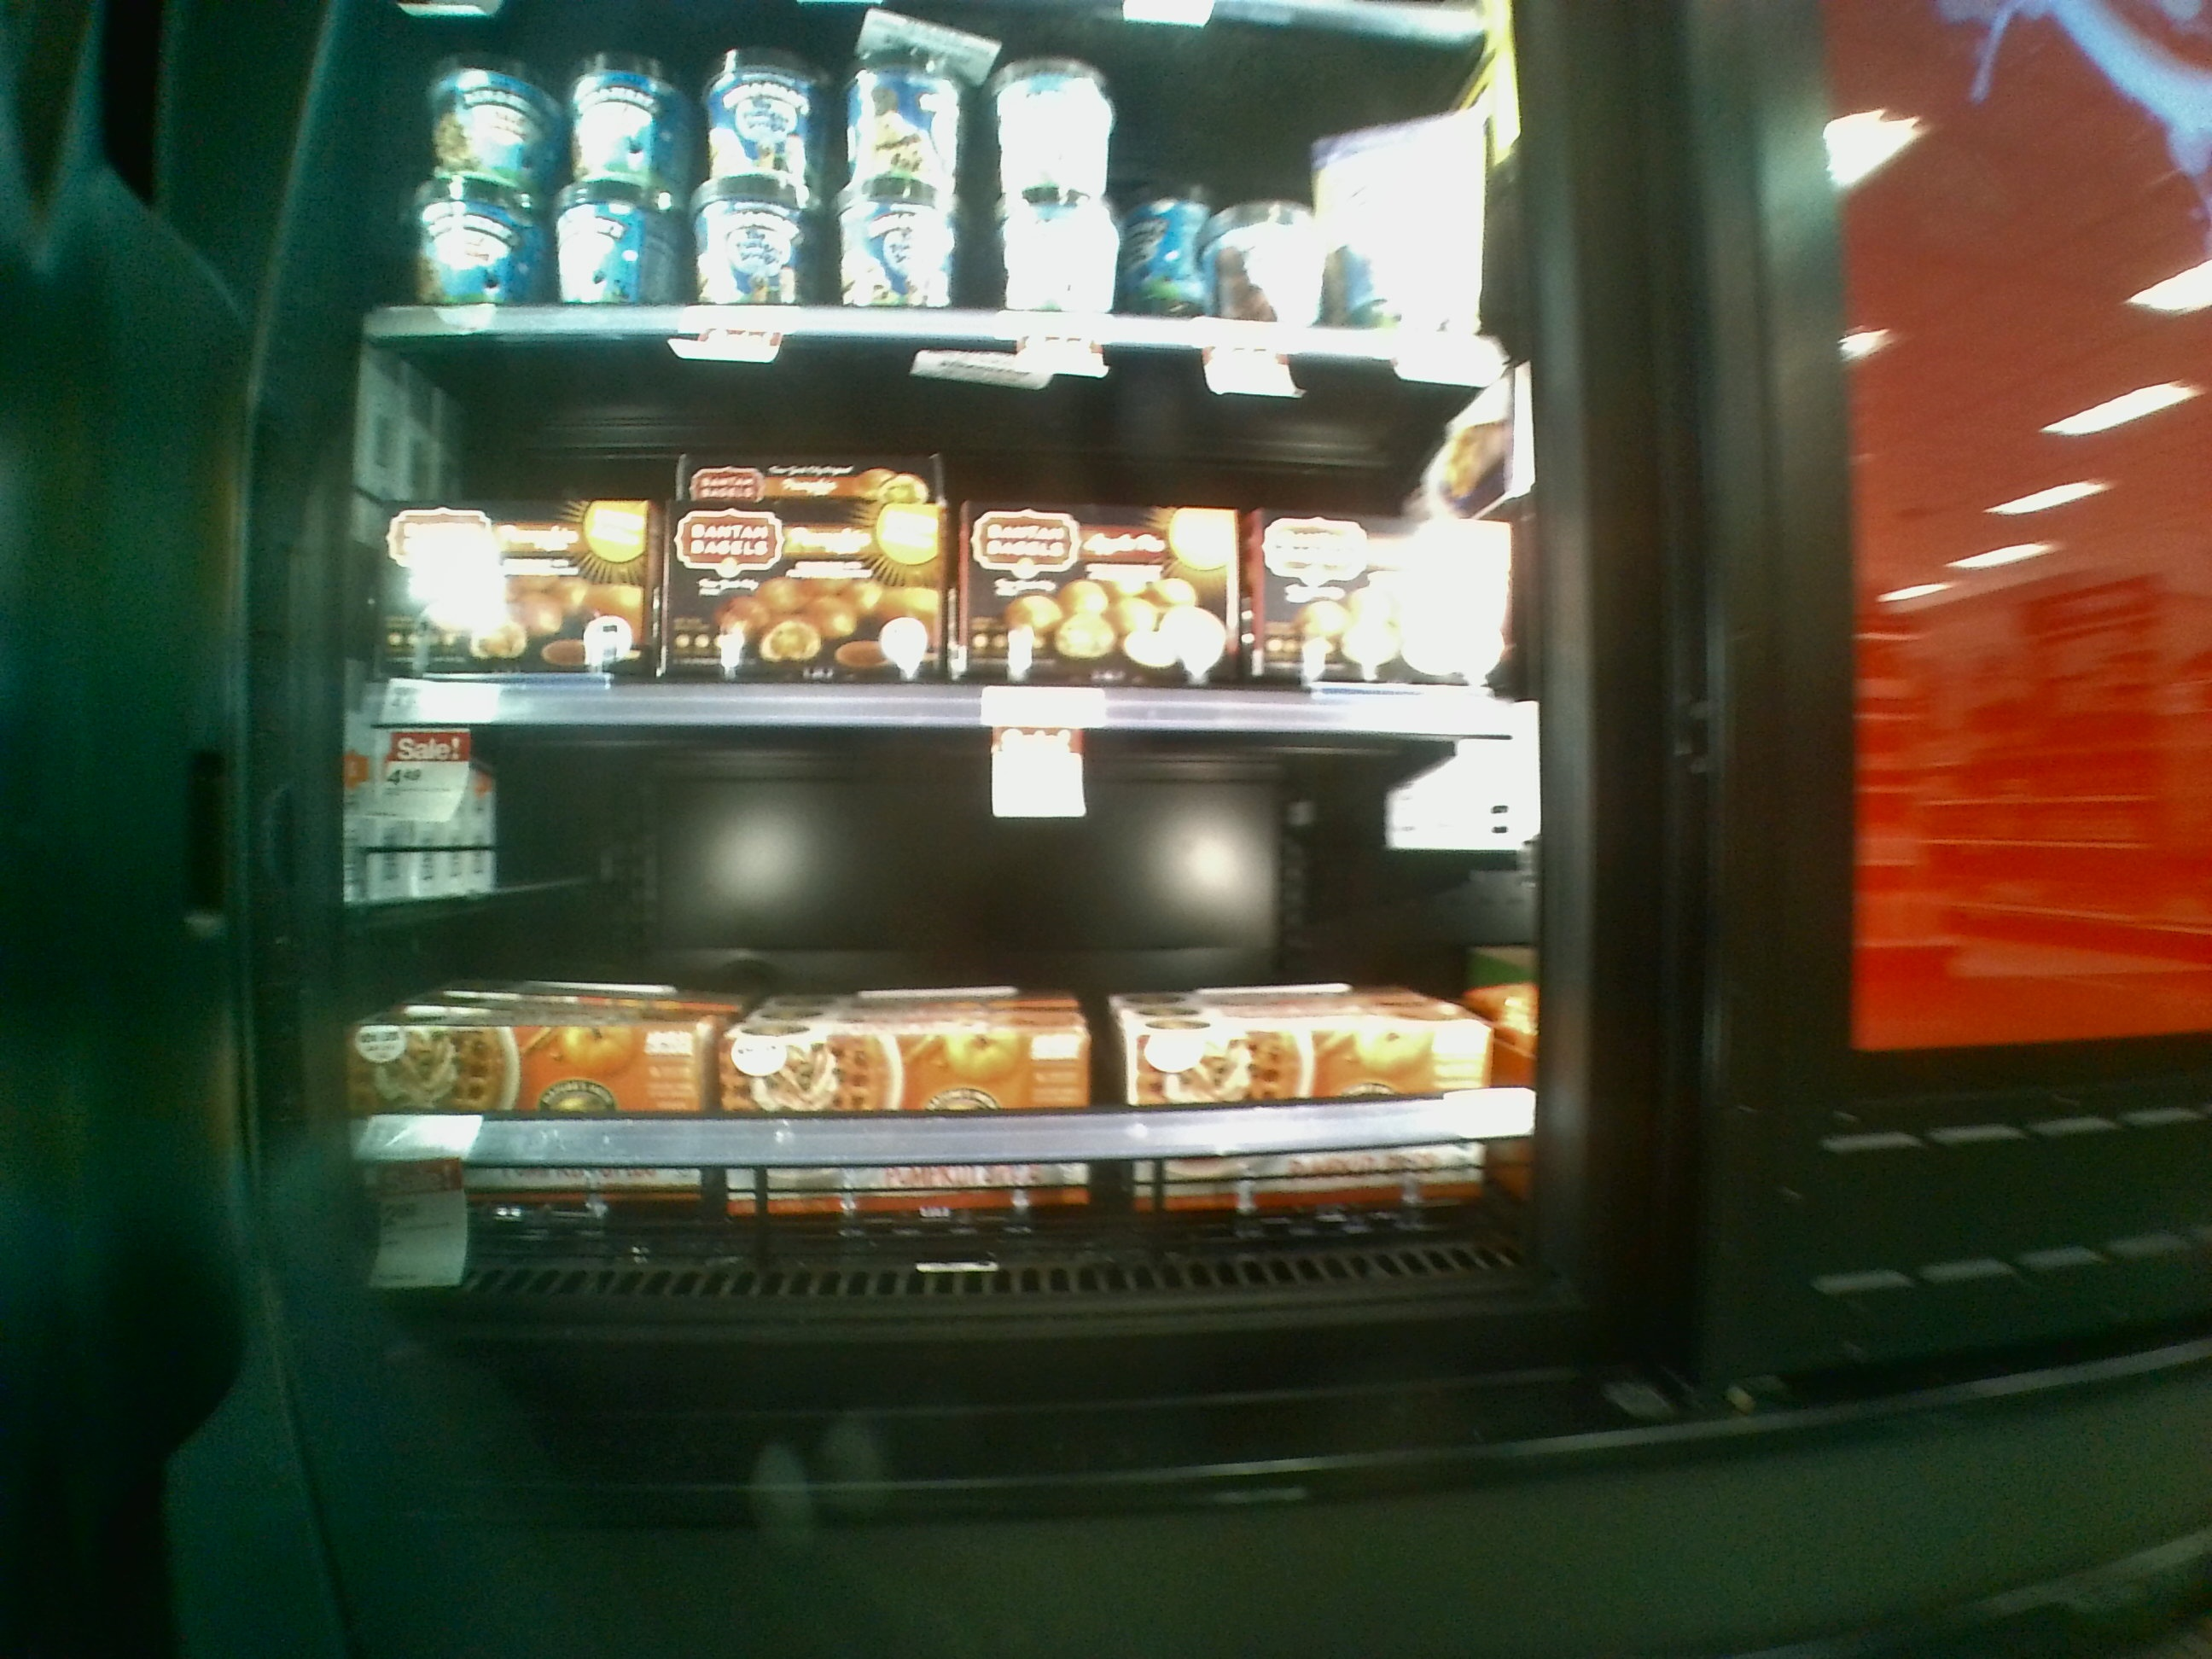shelf: (307, 727, 1561, 1309), (334, 324, 1550, 755)
